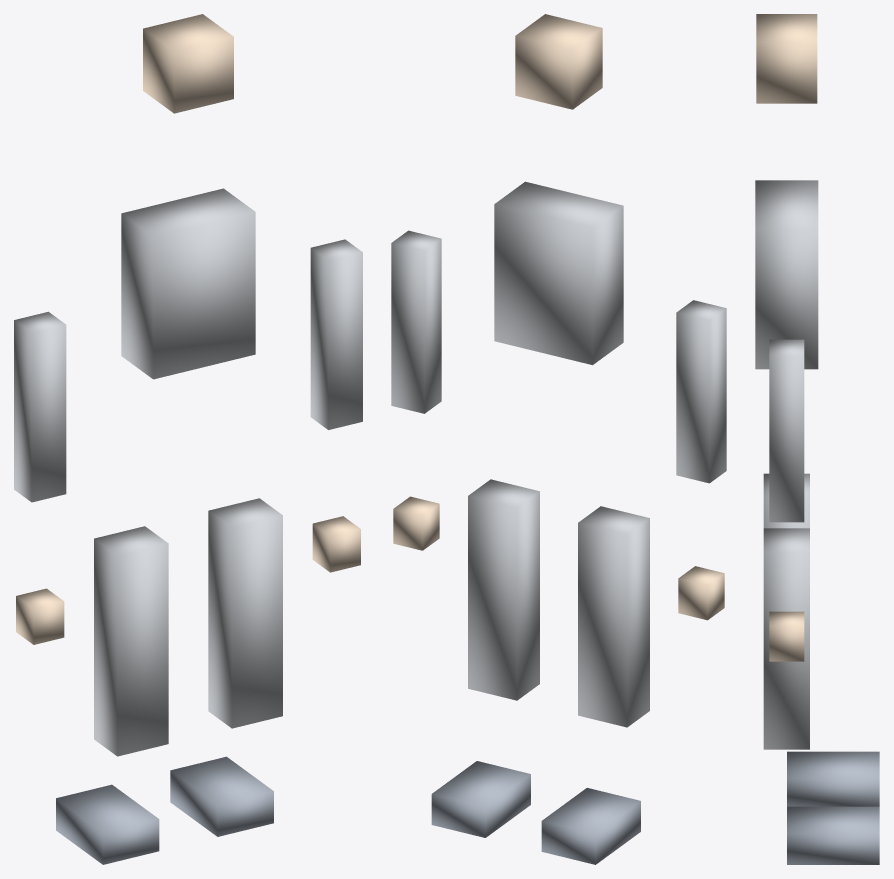
Rendered from avatar_blender.glb.
The picture shows the model from 3 angles, left to right: view 1: azimuth 30°, elevation 25°; view 2: azimuth 150°, elevation 25°; view 3: azimuth 270°, elevation 25°; orthographic projection. The views are drawn at different scales.
Visible parts, largest first — view 1: torso, legLMesh, legRMesh, armRMesh, armLMesh, head, footR, footL, handR, handL; view 2: torso, legRMesh, legLMesh, armRMesh, armLMesh, head, footR, footL, handL, handR; view 3: torso, legLMesh, armLMesh, head, footL, footR, handL, legRMesh.
Boxes of the visible parts, bbox=[...] form: torso: bbox=[121, 188, 255, 379]; legLMesh: bbox=[208, 498, 282, 728]; legRMesh: bbox=[94, 526, 168, 756]; armRMesh: bbox=[14, 311, 66, 502]; armLMesh: bbox=[310, 239, 362, 429]; head: bbox=[143, 14, 233, 113]; footR: bbox=[56, 784, 159, 864]; footL: bbox=[170, 756, 273, 836]; handR: bbox=[16, 588, 64, 644]; handL: bbox=[312, 516, 360, 572]; torso: bbox=[494, 181, 623, 365]; legRMesh: bbox=[578, 506, 649, 727]; legLMesh: bbox=[468, 479, 539, 700]; armRMesh: bbox=[676, 300, 726, 483]; armLMesh: bbox=[391, 230, 441, 413]; head: bbox=[515, 14, 602, 109]; footR: bbox=[541, 788, 640, 864]; footL: bbox=[431, 761, 530, 837]; handL: bbox=[393, 496, 439, 550]; handR: bbox=[678, 566, 724, 620]; torso: bbox=[755, 180, 818, 369]; legLMesh: bbox=[763, 528, 809, 749]; armLMesh: bbox=[769, 339, 804, 522]; head: bbox=[756, 14, 817, 103]; footL: bbox=[787, 806, 879, 864]; footR: bbox=[787, 751, 879, 806]; handL: bbox=[769, 611, 804, 661]; legRMesh: bbox=[763, 473, 809, 528].
Size of the model in its own units: 0.6993 by 1.64 by 0.2313.
